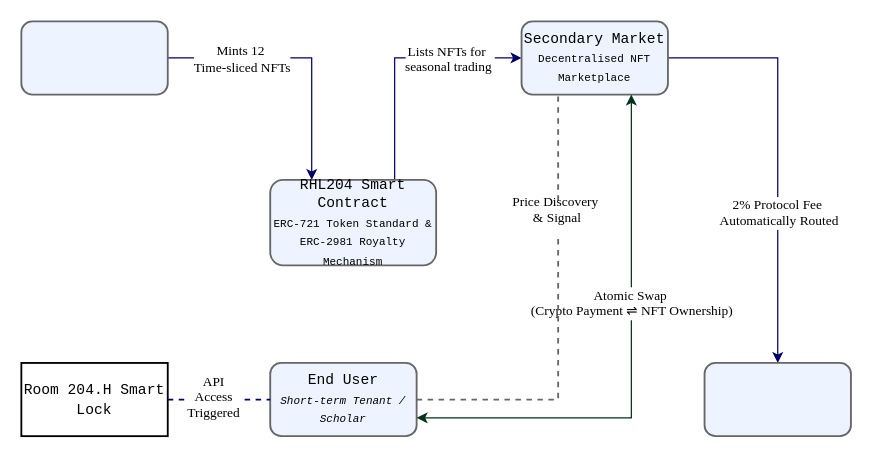
The diagram is 874 pixels wide and 459 high, and some of its shapes have lost their labels. Here are the shapes that lost their labels. From the top down, the centre of each, then its label:
At (94,57): "Primary Issuer Leaseholder / Token Originator".
At (777,399): "Treasury Wallet Property Management".
